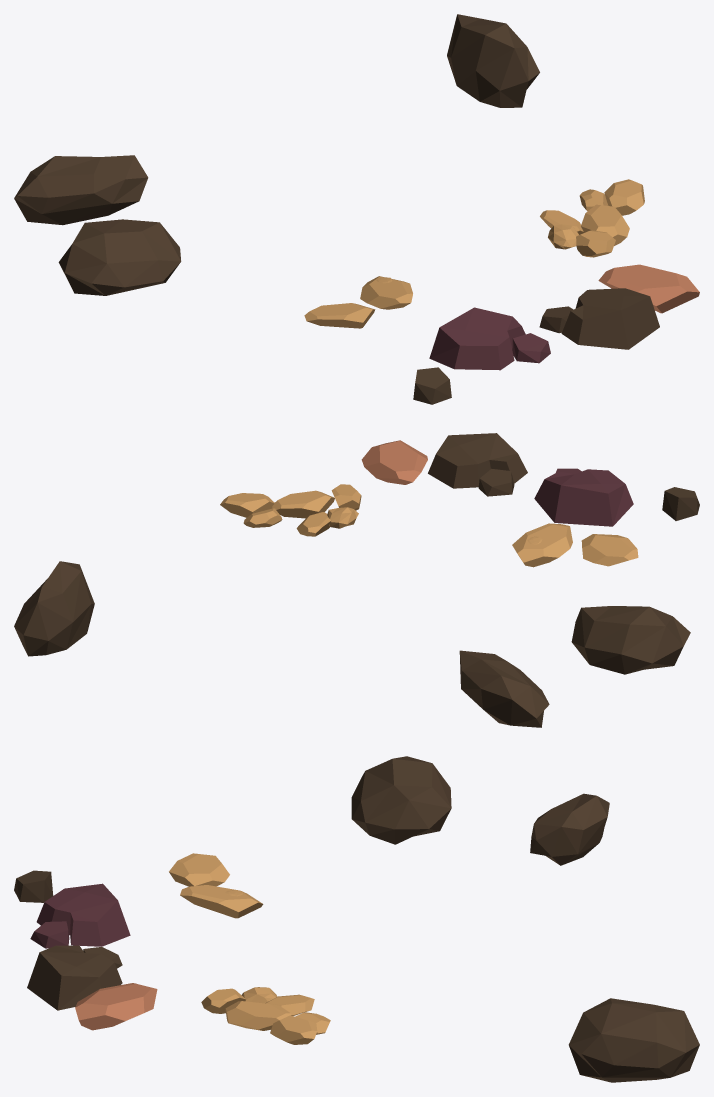
Rendered from world-japan_0_0.fbx.
The picture shows the model from 3 angles, top to bottom: view 1: azimuth 30°, elevation 25°; view 2: azimuth 150°, elevation 25°; view 3: azimuth 270°, elevation 25°; orthographic projection. The views are drawn at different scales.
Visible parts, largest first — view 1: world_japan_0_0; view 2: world_japan_0_0; view 3: world_japan_0_0.
Boxes of the visible parts, x1,y1,x2,y2 form: world_japan_0_0: [14, 14, 699, 404]; world_japan_0_0: [14, 433, 699, 727]; world_japan_0_0: [14, 756, 699, 1082].
Bounding box in the file's own units: 1449 × 201 × 1513.
